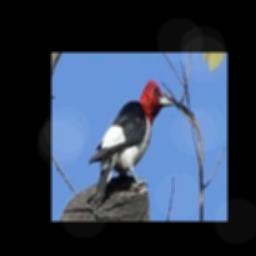Woodpecker: (89, 79, 173, 205)
